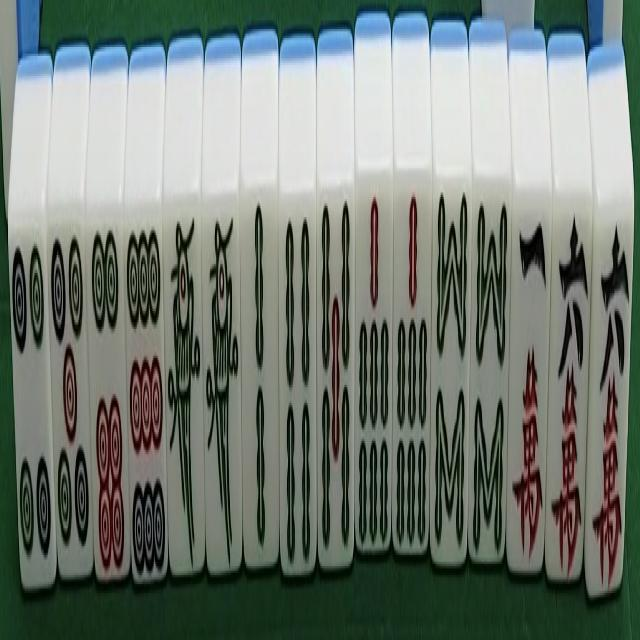m1: (506, 34, 552, 598)
m6: (583, 48, 633, 605), (544, 31, 590, 597)
s1: (161, 39, 205, 588), (200, 37, 244, 584)
s2: (238, 35, 278, 585)
s4: (278, 35, 316, 590)
s5: (316, 26, 355, 578)
s7: (390, 12, 431, 568), (354, 15, 394, 571)
s8: (467, 22, 511, 586), (428, 21, 471, 584)
t4: (8, 62, 57, 601)
t5: (46, 45, 93, 591)
t6: (85, 55, 129, 596)
t9: (122, 51, 165, 596)
